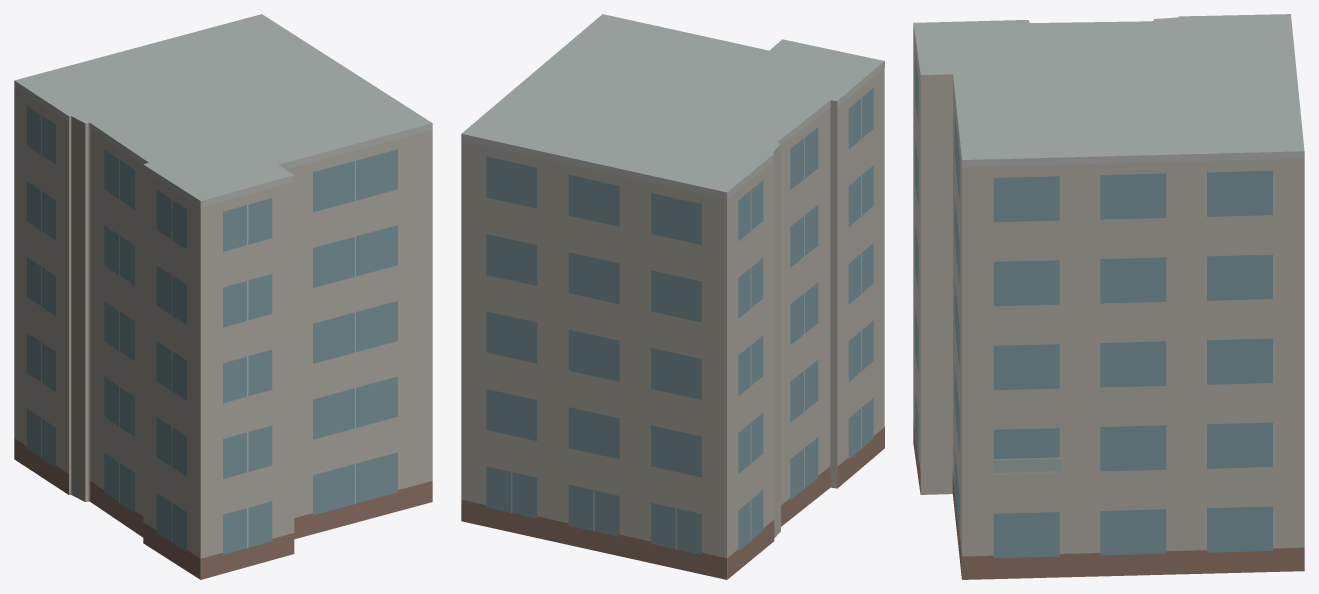
Rendered from survey-upis-32628792.glb.
3 views of the same model, side by side, from view 1: azimuth 30°, elevation 25°; view 2: azimuth 150°, elevation 25°; view 3: azimuth 270°, elevation 25° (orthographic). The views are drawn at different scales.
Parts seen in each view (by area): view 1: survey-upis-32628792.tmp; view 2: survey-upis-32628792.tmp; view 3: survey-upis-32628792.tmp.
Part boxes in pixels (left/top/right/bottom): survey-upis-32628792.tmp: left=14, top=14, right=432, bottom=579; survey-upis-32628792.tmp: left=461, top=14, right=884, bottom=579; survey-upis-32628792.tmp: left=913, top=14, right=1304, bottom=579.
Bounding box in the file's own units: 10.6 × 14.2 × 12.
